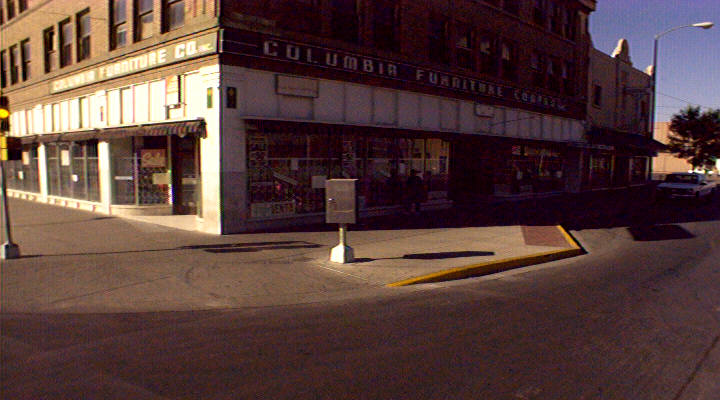Ramp: (1, 257, 418, 317)
